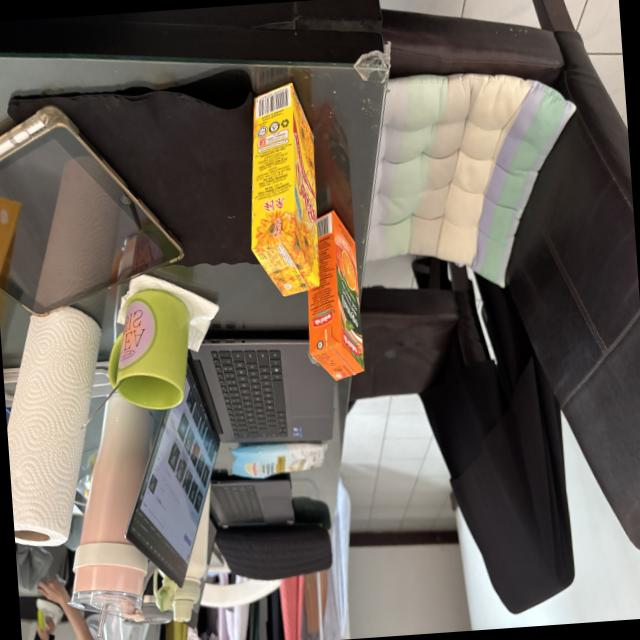drink_carton: (233, 76, 335, 307), (292, 197, 374, 395)
